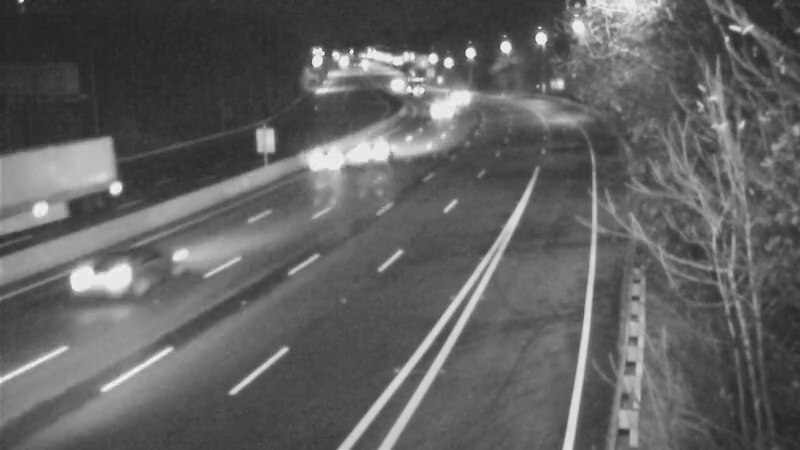vehicle: (329, 114, 409, 194), (285, 117, 365, 197), (83, 229, 163, 309), (1, 158, 74, 238), (368, 59, 418, 109), (392, 60, 442, 110), (434, 72, 484, 122), (413, 81, 463, 131)
